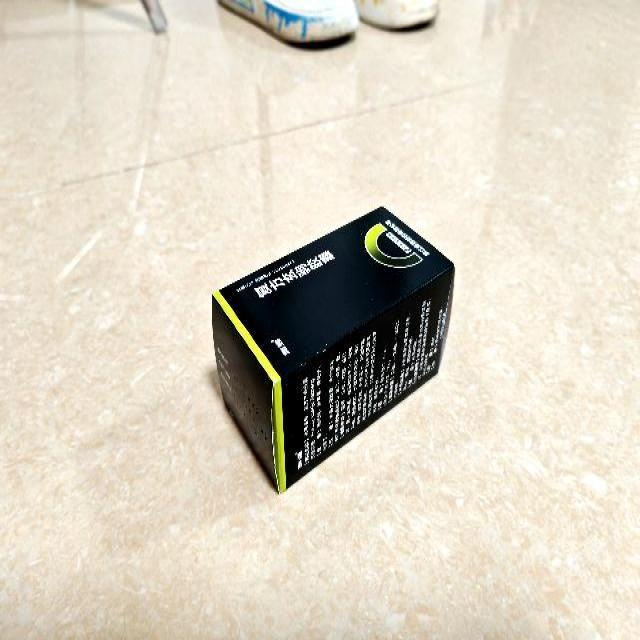box: (212, 201, 456, 495)
